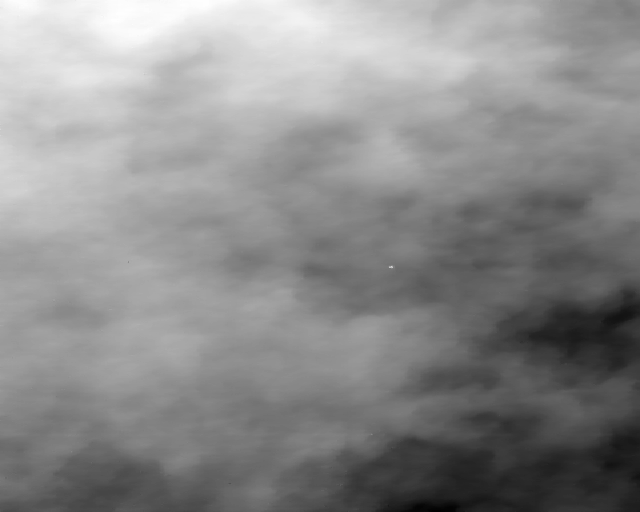Target: (388, 265, 394, 268)
